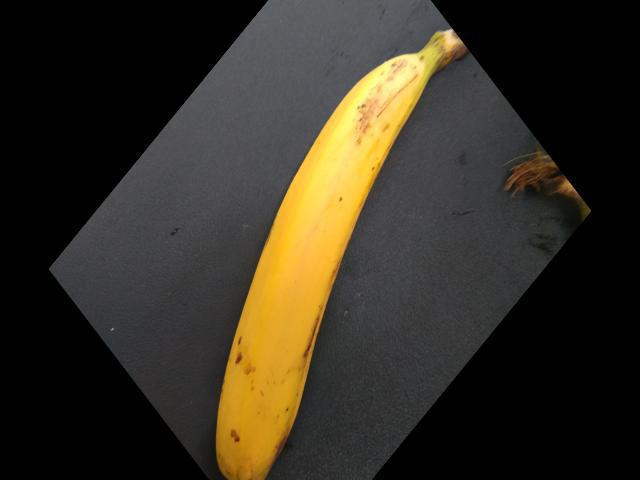ripe: (169, 54, 427, 479)
